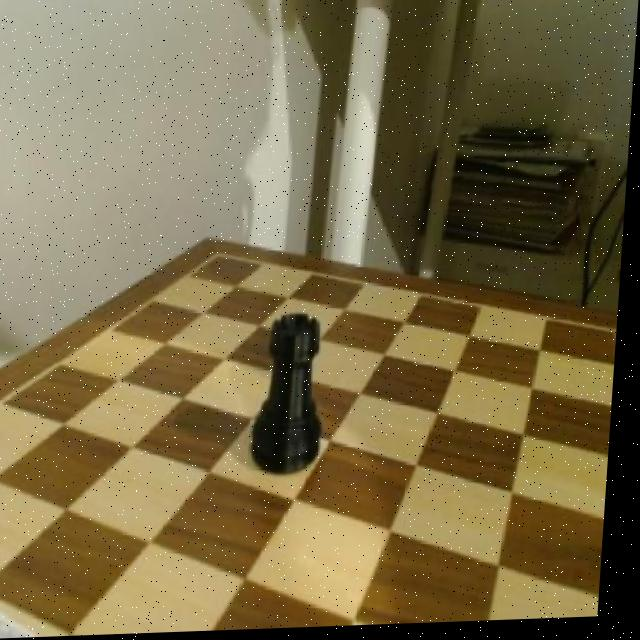black-queen: (253, 311, 337, 478)
